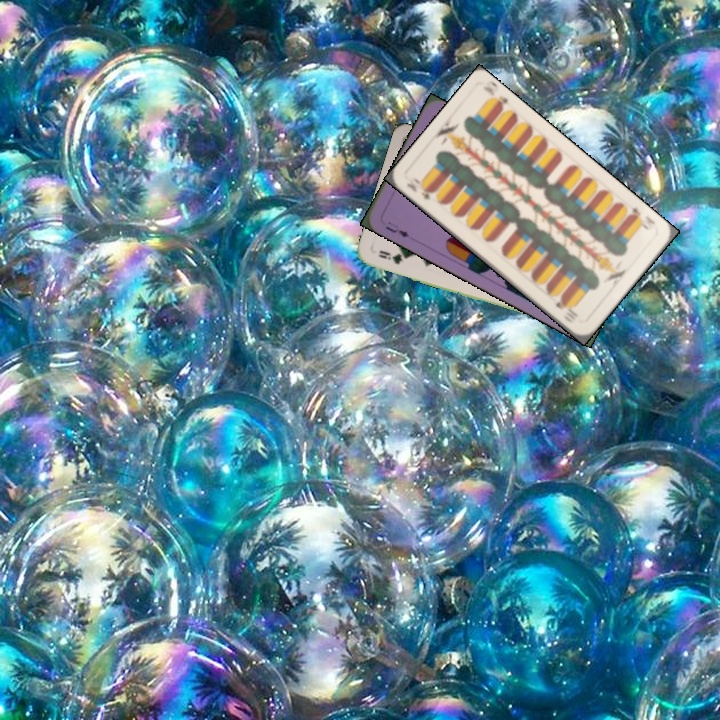E10: (624, 203, 658, 233), (402, 174, 436, 203)
EU: (381, 217, 412, 240)
G9: (374, 246, 410, 267)
